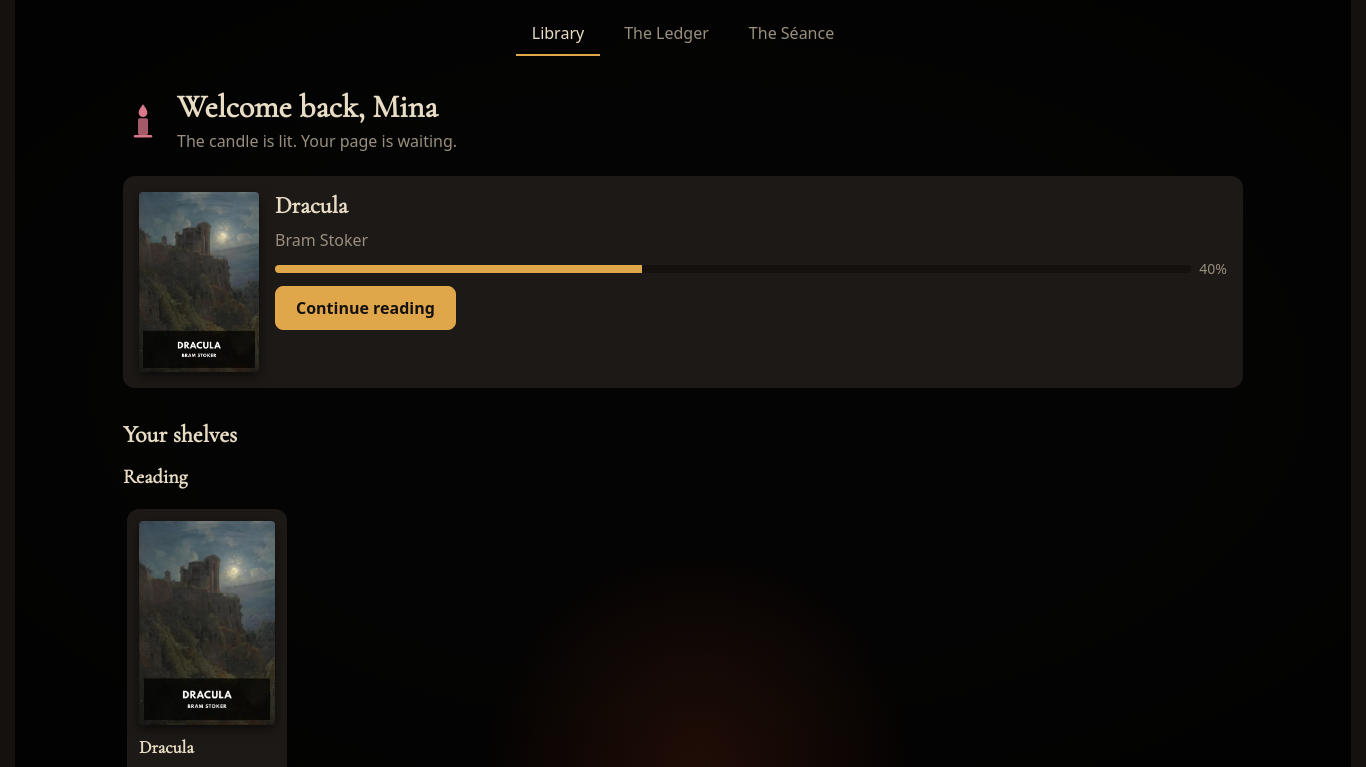
it: Delete my profile › confirm shows onboarding again and keeps books, shelves, positions, stats and daily
Expected: the heading "Welcome back, Mina" is shown, 177,87 -> 438,126
Click the tab "The Séance".
click(792, 34)  # box 733,12 -> 850,56
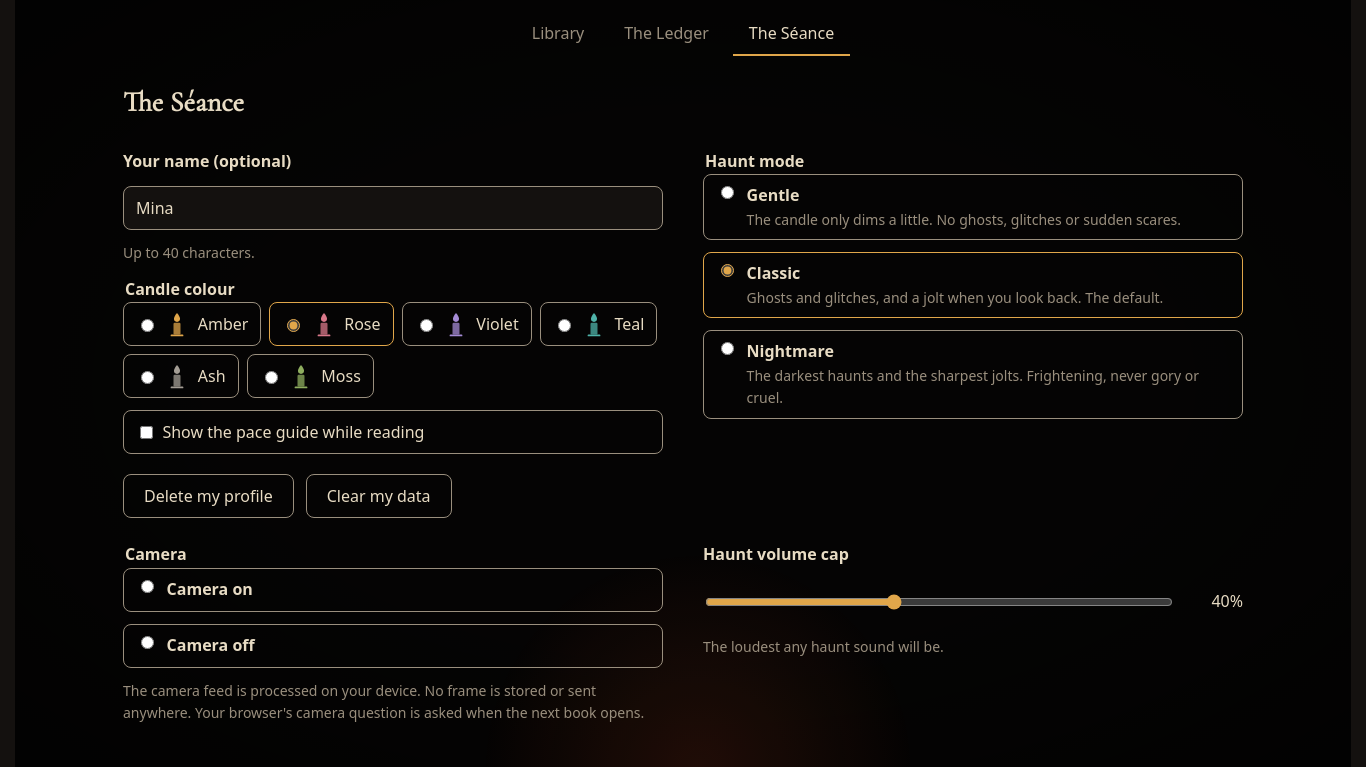
Click the button "Delete my profile".
click(208, 496)  # box 123,474 -> 294,518
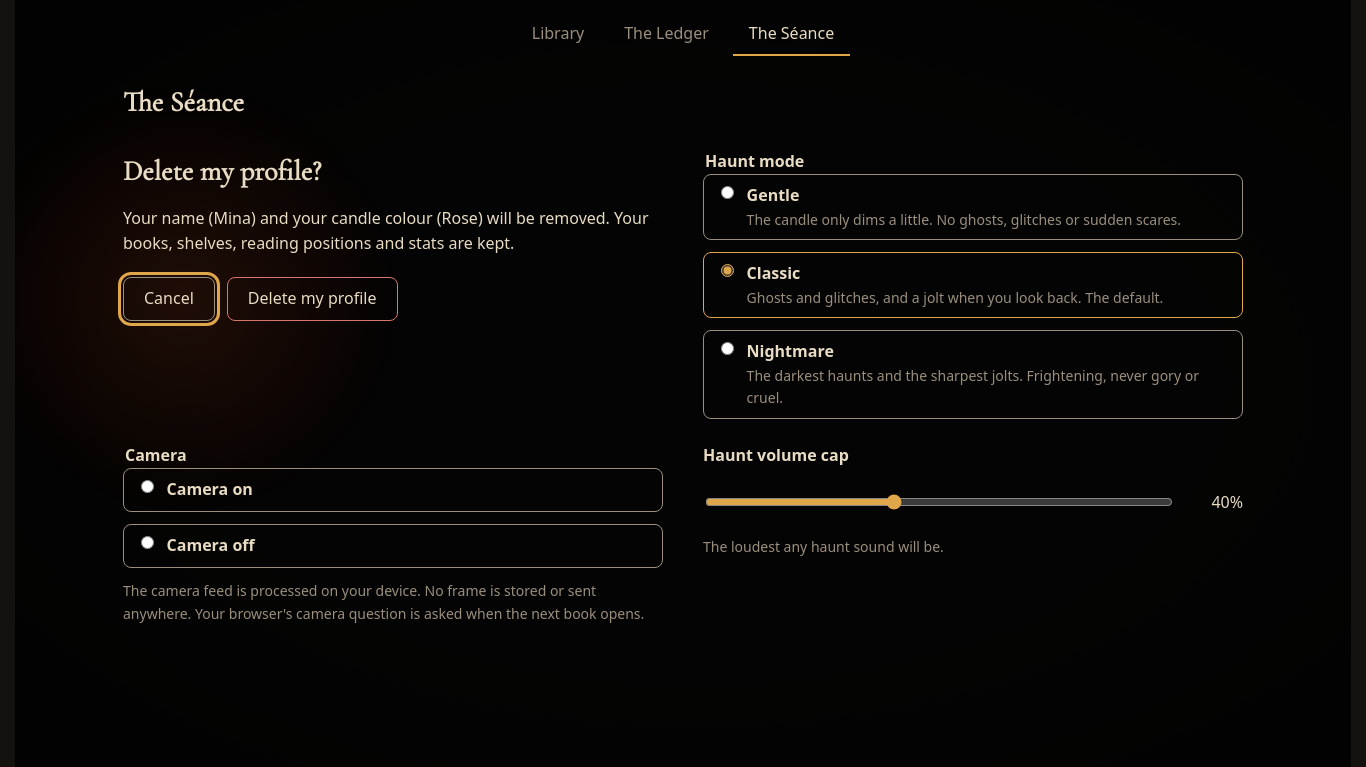
Expected: the heading "Delete my profile?" is shown, 123,154 -> 321,188
Click the button "Delete my profile".
click(312, 299)  # box 227,277 -> 398,321
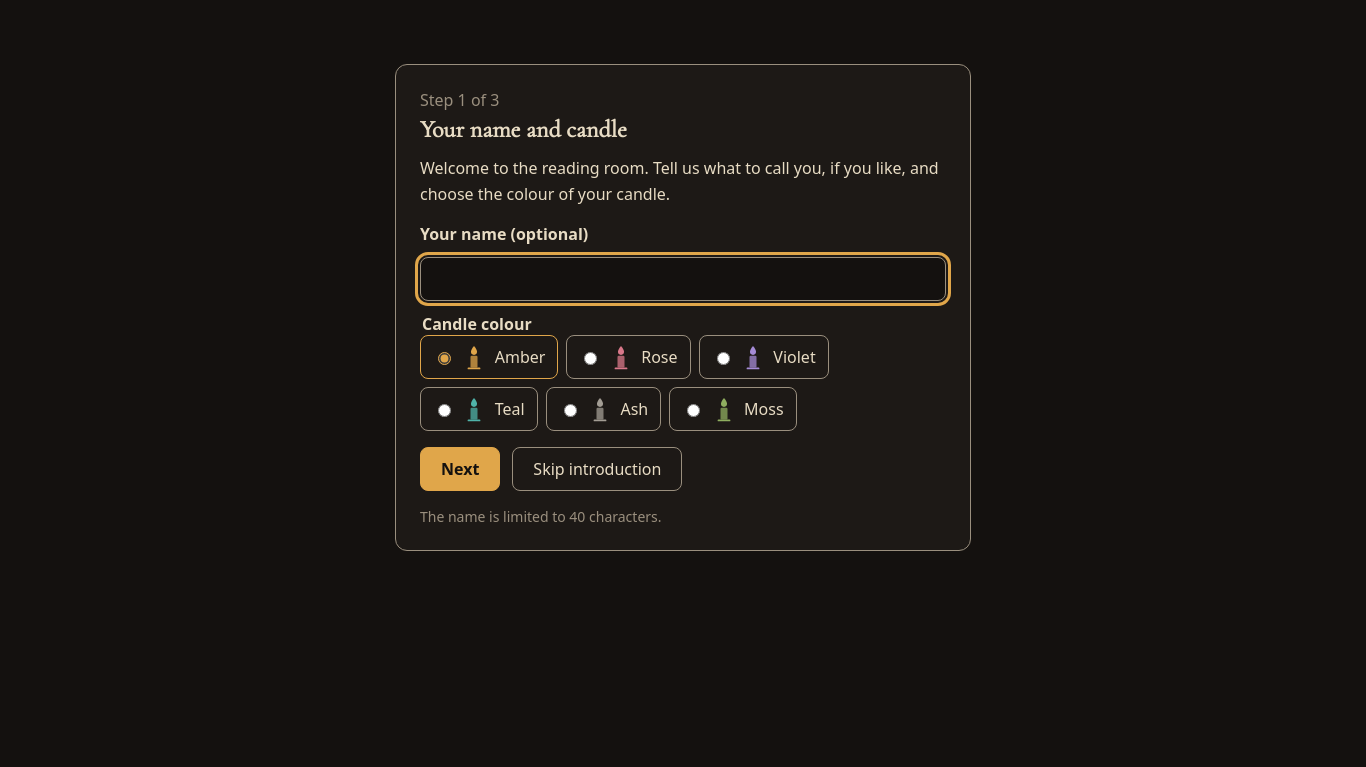
Expected: the element "Your name and candle" is shown, 395,64 -> 971,551
